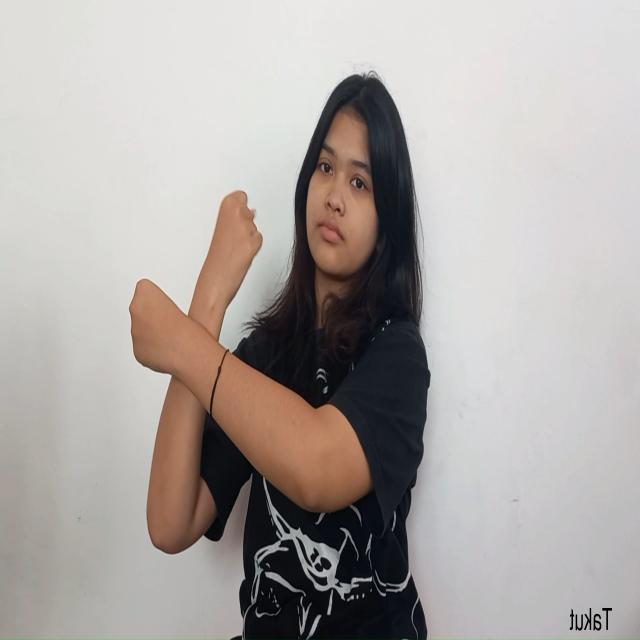Takut -BISINDO-: (128, 186, 264, 424)
